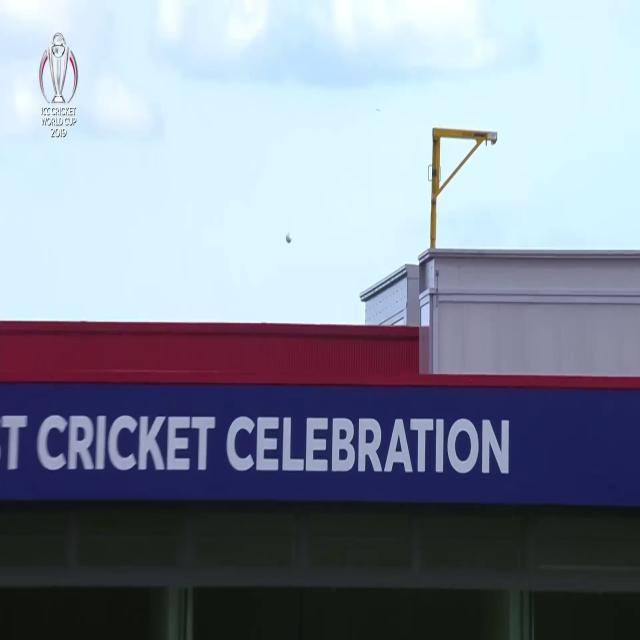ball: (285, 230, 293, 246)
